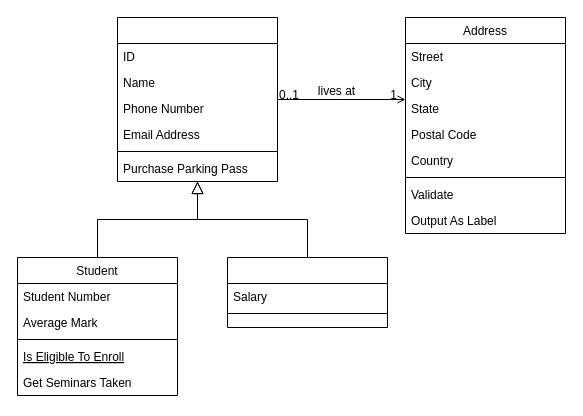
This 583x416 diagram has some shape labels left out. Here are the shapes that lost their labels. From the top down, the box of each, then its label:
(116, 16, 278, 182): Item（物品类）
(226, 256, 388, 328): Professor
